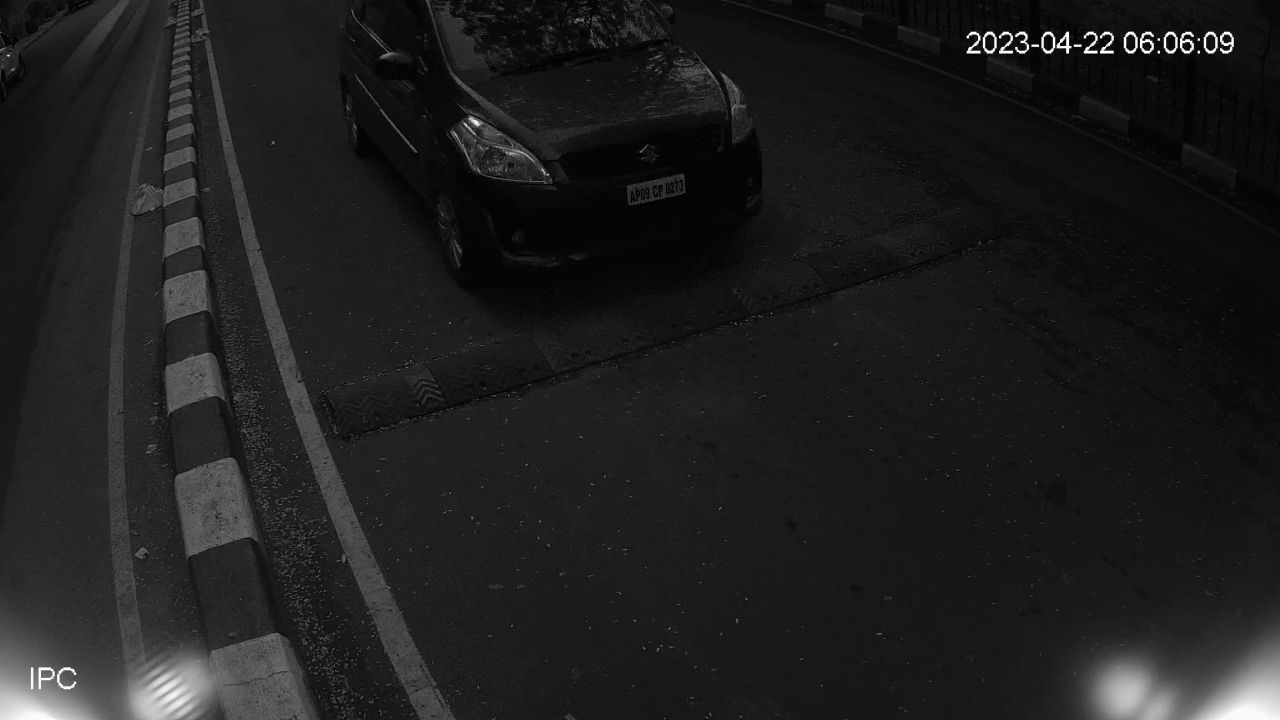license_plate: (622, 170, 691, 212)
